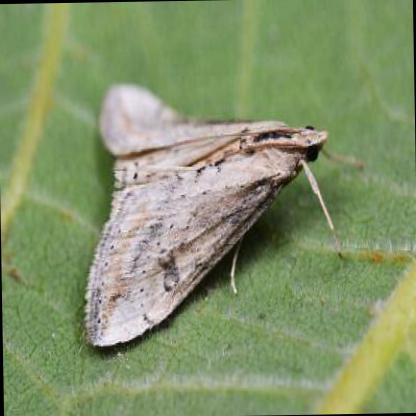Hellula undalis: (81, 82, 370, 351)
